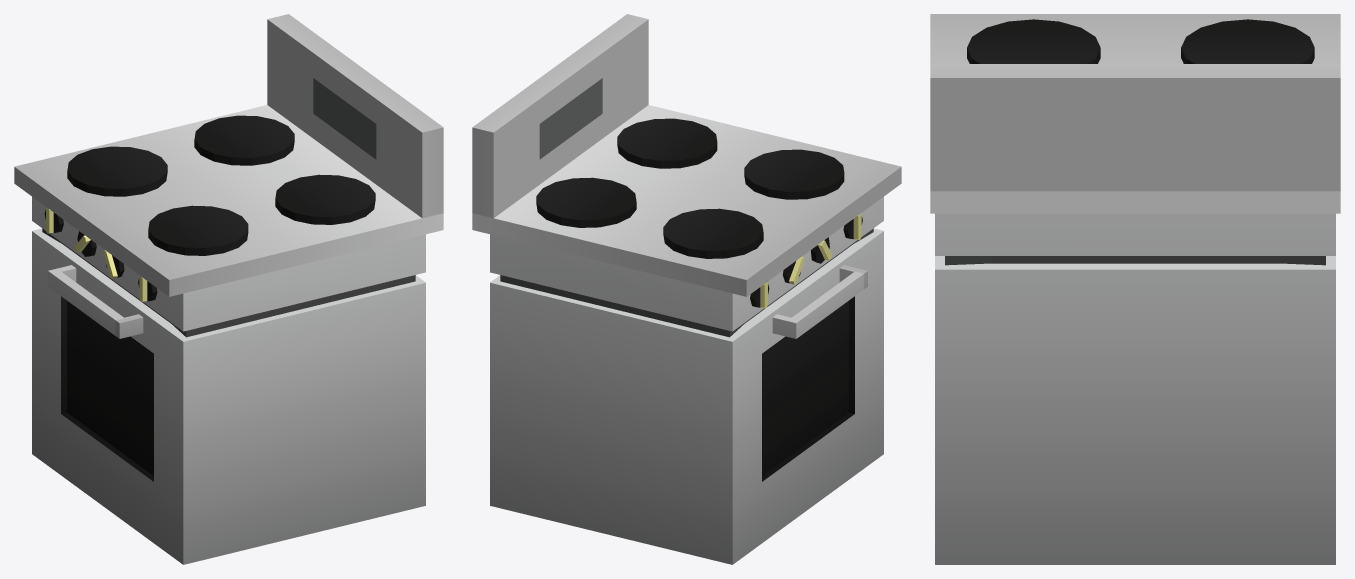
The model's file is ST_Stove.fbx.
The picture shows the model from 3 angles, left to right: view 1: azimuth 30°, elevation 25°; view 2: azimuth 150°, elevation 25°; view 3: azimuth 270°, elevation 25°; orthographic projection. The views are drawn at different scales.
Visible parts, largest first — view 1: ST_Stove; view 2: ST_Stove; view 3: ST_Stove.
Boxes of the visible parts, x1,y1,x2,y2 form: ST_Stove: (14, 14, 443, 564); ST_Stove: (472, 14, 901, 564); ST_Stove: (930, 14, 1340, 564).
Size of the model in its own units: 74.88 by 95.19 by 71.18.
